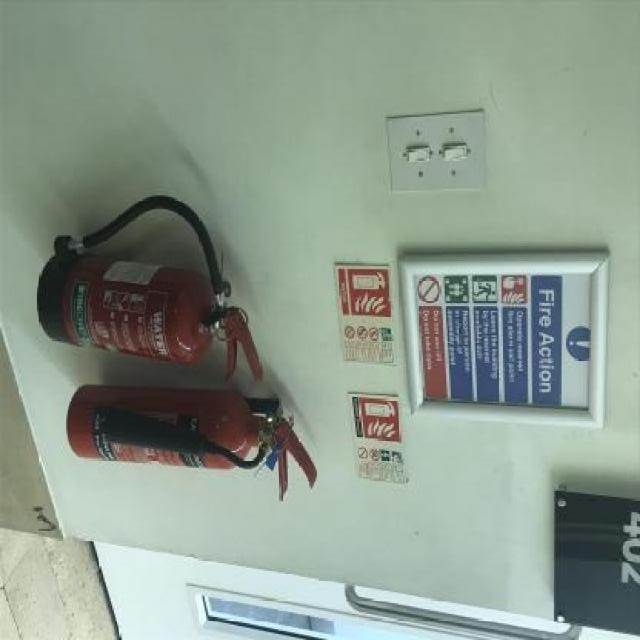fire extinguisher: (35, 194, 262, 383), (65, 382, 319, 498)
